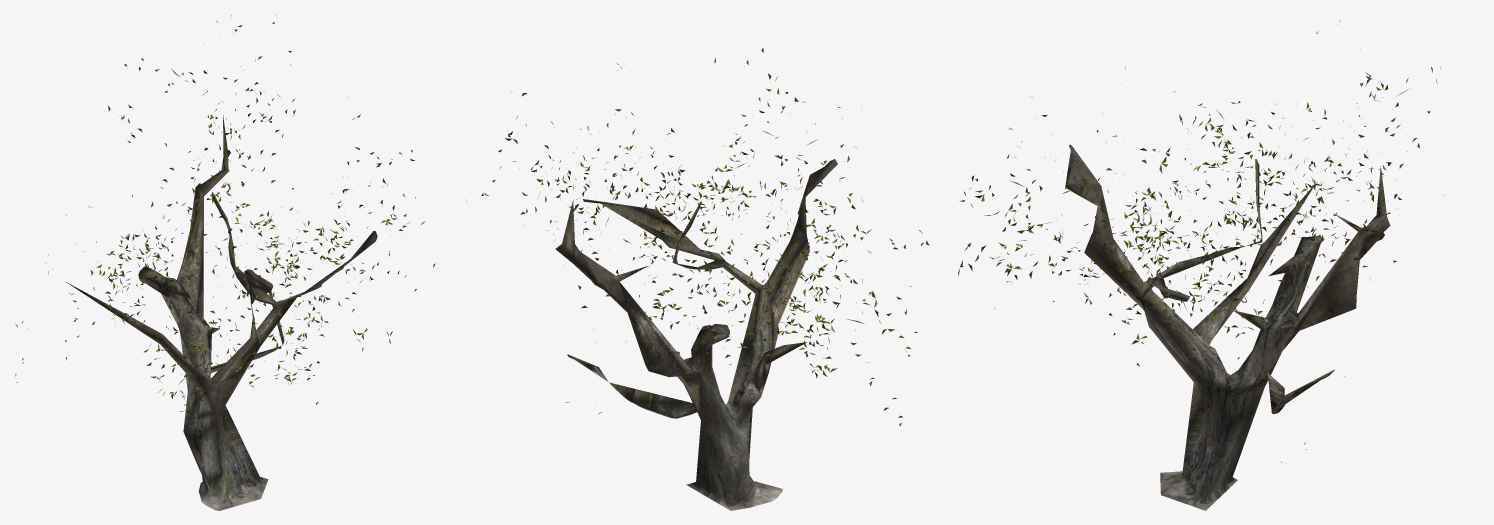
File: ph_island_tree_01_lod1.glb
The picture shows the model from 3 angles, left to right: view 1: azimuth 30°, elevation 25°; view 2: azimuth 150°, elevation 25°; view 3: azimuth 270°, elevation 25°; orthographic projection. The views are drawn at different scales.
Parts seen in each view (by area): view 1: island_tree_01_LOD0; view 2: island_tree_01_LOD0; view 3: island_tree_01_LOD0.
Boxes of the visible parts, x1,y1,x2,y2 form: island_tree_01_LOD0: (15, 15, 435, 510); island_tree_01_LOD0: (465, 48, 929, 510); island_tree_01_LOD0: (958, 20, 1444, 510).
Size of the model in its own units: 4.63 by 4.89 by 4.57.
3 materials, 3 textured.
